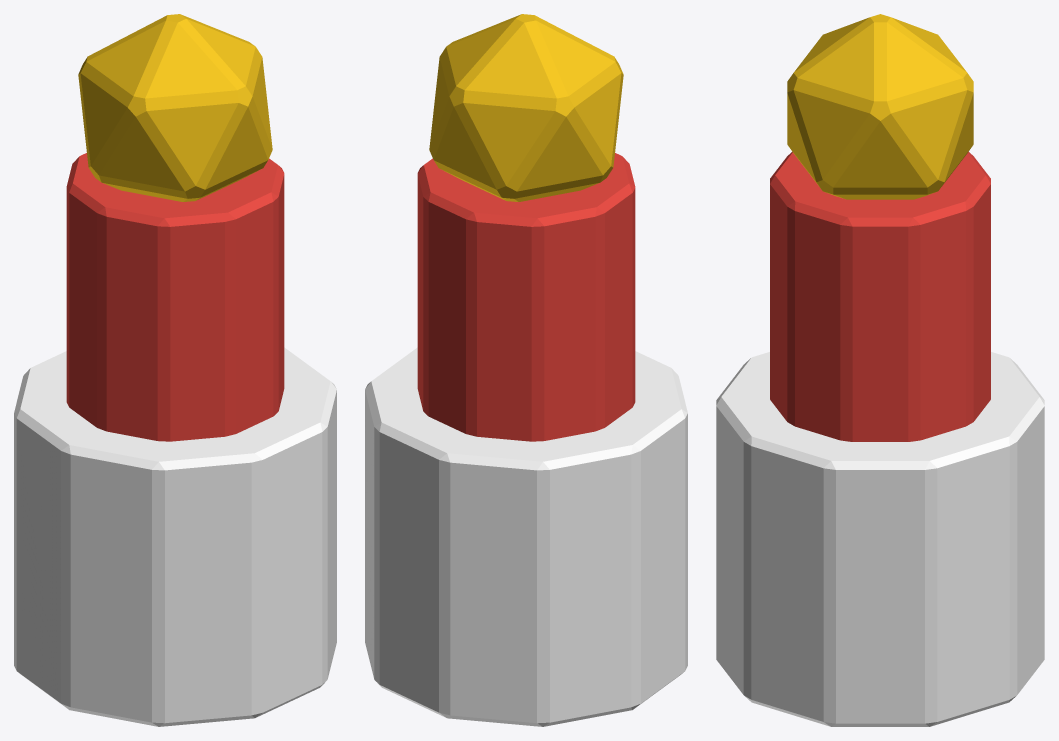
File: city_beacon.glb
The picture shows the model from 3 angles, left to right: view 1: azimuth 30°, elevation 25°; view 2: azimuth 150°, elevation 25°; view 3: azimuth 270°, elevation 25°; orthographic projection.
Parts seen in each view (by area): view 1: city_beacon; view 2: city_beacon; view 3: city_beacon.
Part boxes in pixels (x1,y1,x2,y2): city_beacon: (14,14,336,726); city_beacon: (365,14,687,726); city_beacon: (716,14,1044,726).
Bounding box in the file's own units: 0.3234 × 0.7265 × 0.3357.
